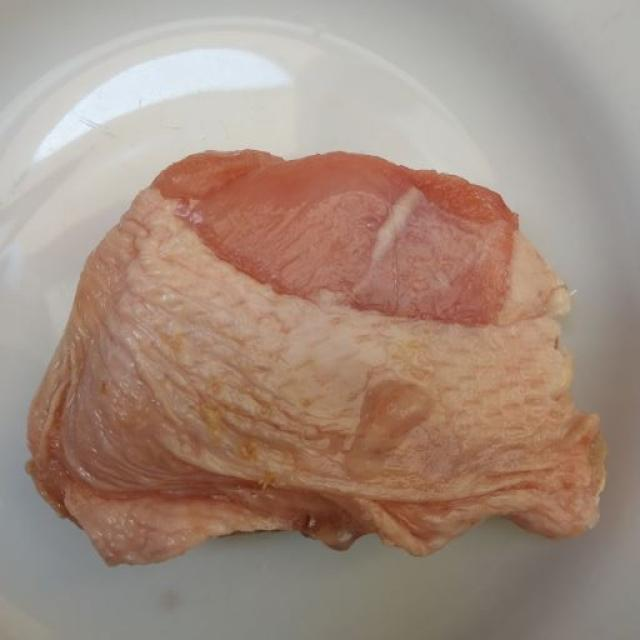Wet Waste: (16, 126, 618, 571)
